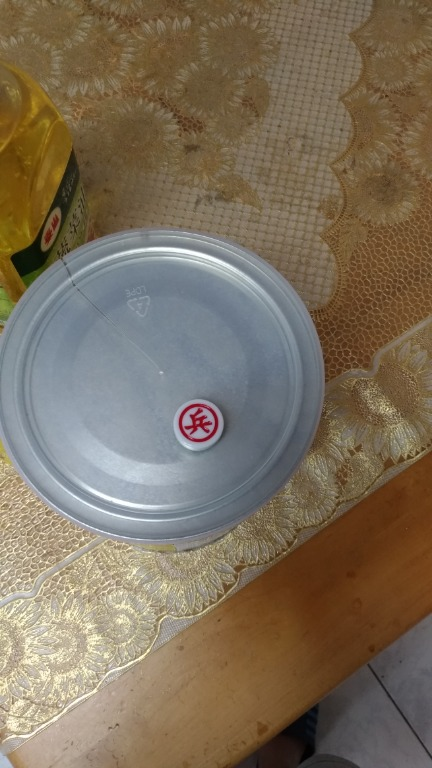r-pawn: (172, 396, 230, 457)
